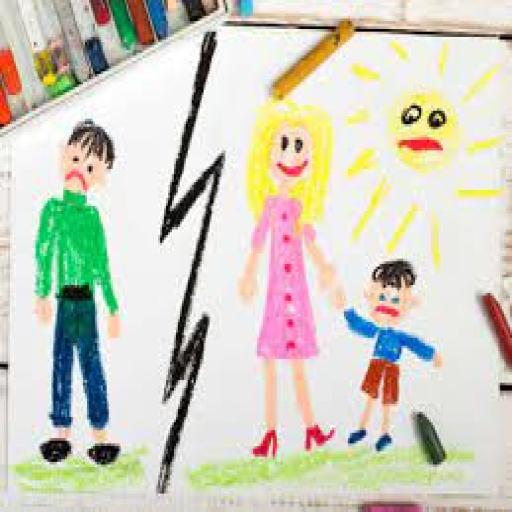person: (236, 101, 345, 471), (26, 114, 136, 472), (348, 250, 440, 456)
